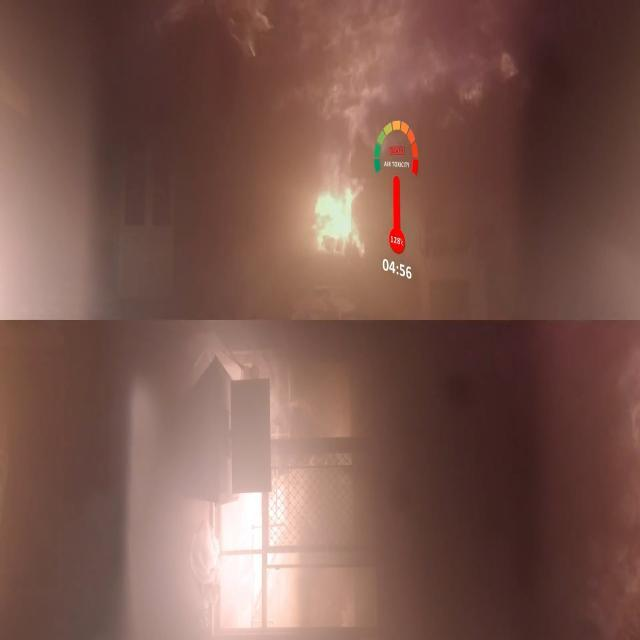Fire: (318, 173, 364, 261)
